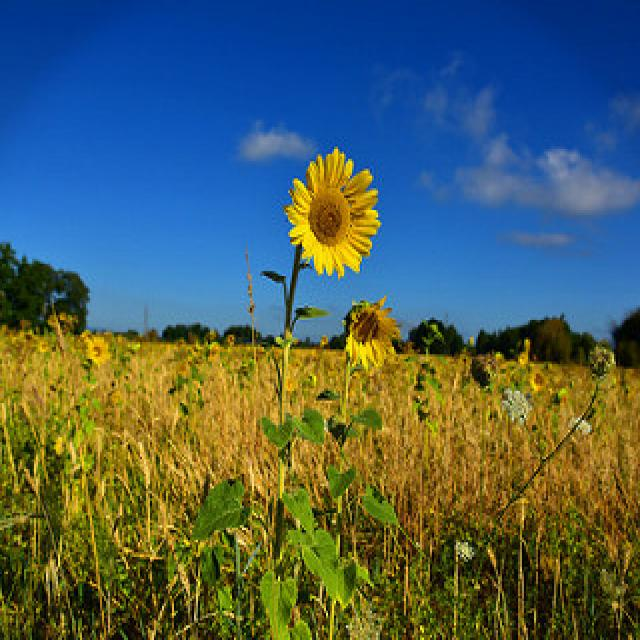sunflower: (286, 148, 378, 272), (345, 300, 399, 374)
